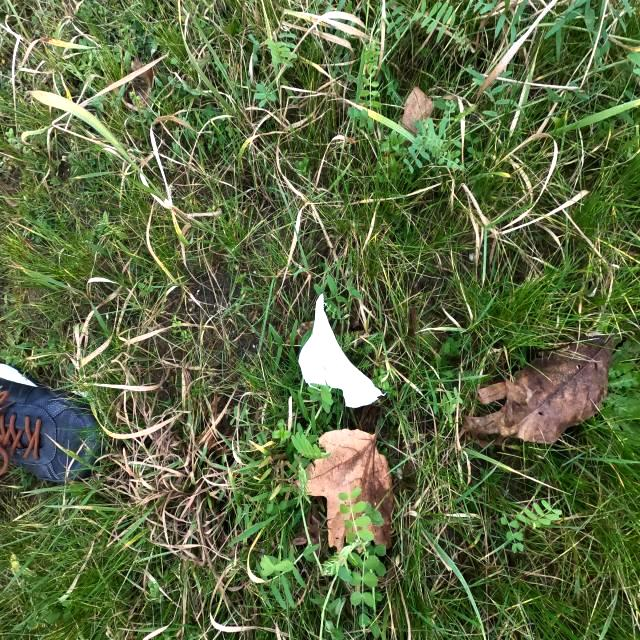Plastic: (298, 291, 388, 409)
